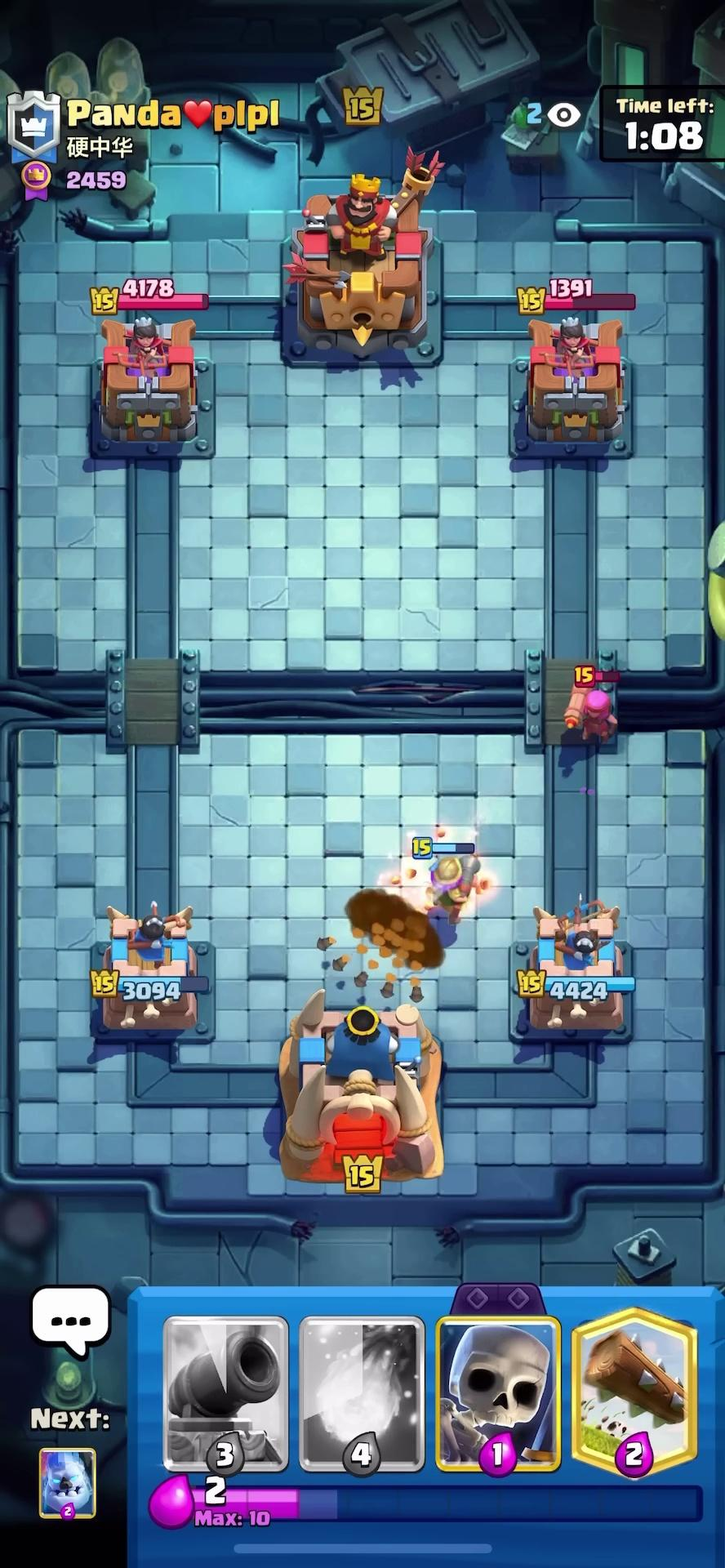musketeer: (414, 833, 490, 913)
